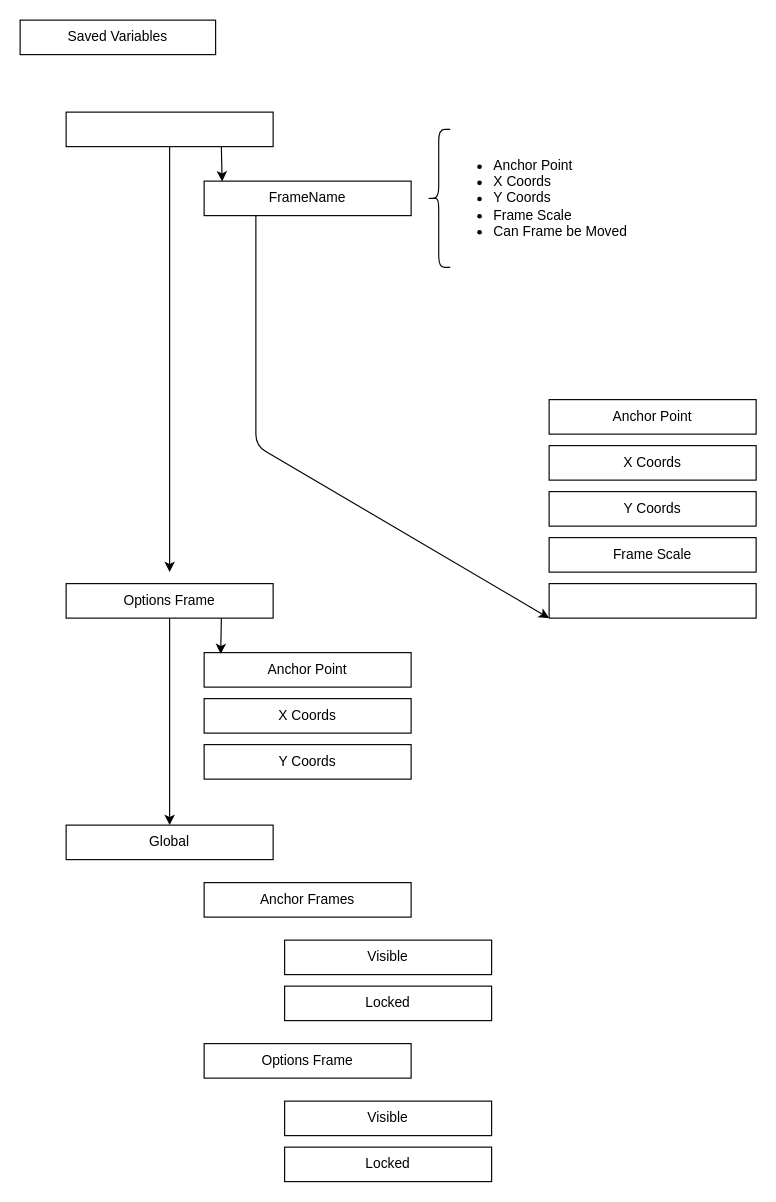
This 776x1202 diagram has some shape labels left out. The centre of each missing label's shape, as x and y in pixels:
AnchorFrames: [169,129]
Can Frame be moved: [652,600]
